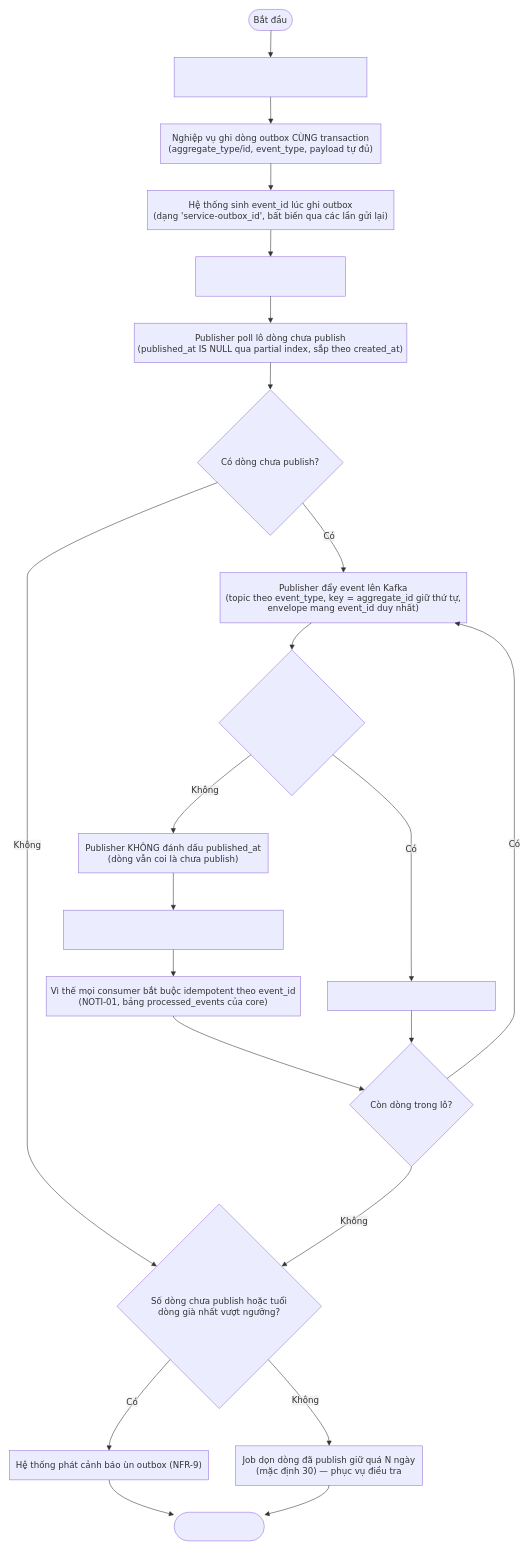
This 529x1550 diagram has some shape labels left out. The shapes that lost their labels are listed below. From the top down, each one's centre as x and y in pixels, then its label:
At (270,77): "Nghiệp vụ (CUST-07, PROD-01, TRF-01...) ghi dữ liệu nghiệp vụ trong transaction".
At (270,276): "Nghiệp vụ commit transaction (dữ liệu + outbox nguyên tử)".
At (291,722): "Kafka ack thành công?".
At (173,930): "Lần poll sau publisher gửi lại → consumer có thể nhận TRÙNG (at-least-once)".
At (411,996): "Publisher đặt published_at = now()".
At (219,1526): "Kết thúc chu kỳ — chờ lần poll kế tiếp".
